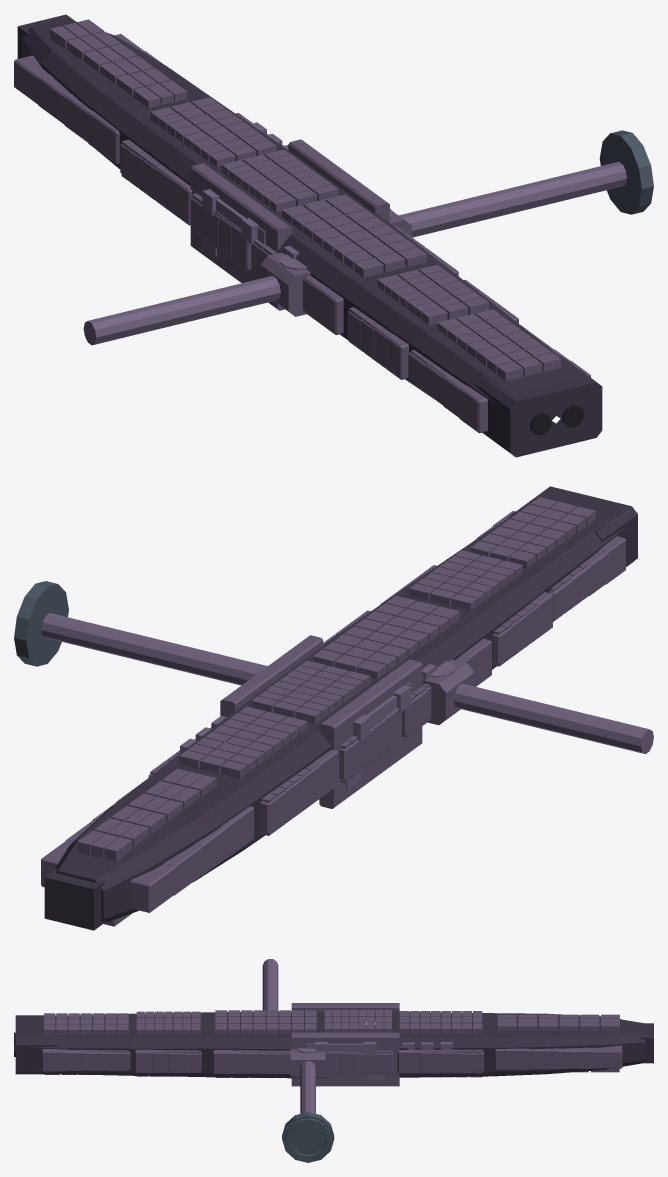
The picture shows the model from 3 angles, top to bottom: view 1: azimuth 30°, elevation 25°; view 2: azimuth 150°, elevation 25°; view 3: azimuth 270°, elevation 25°; orthographic projection. The views are drawn at different scales.
Visible parts, largest first — view 1: RIMWARD_HULL; view 2: RIMWARD_HULL; view 3: RIMWARD_HULL.
Part boxes in pixels (x1,y1,x2,y2): RIMWARD_HULL: (14, 14, 653, 457); RIMWARD_HULL: (14, 486, 653, 930); RIMWARD_HULL: (14, 959, 653, 1162).
Bounding box in the file's own units: 4.73 × 0.64 × 7.35.
